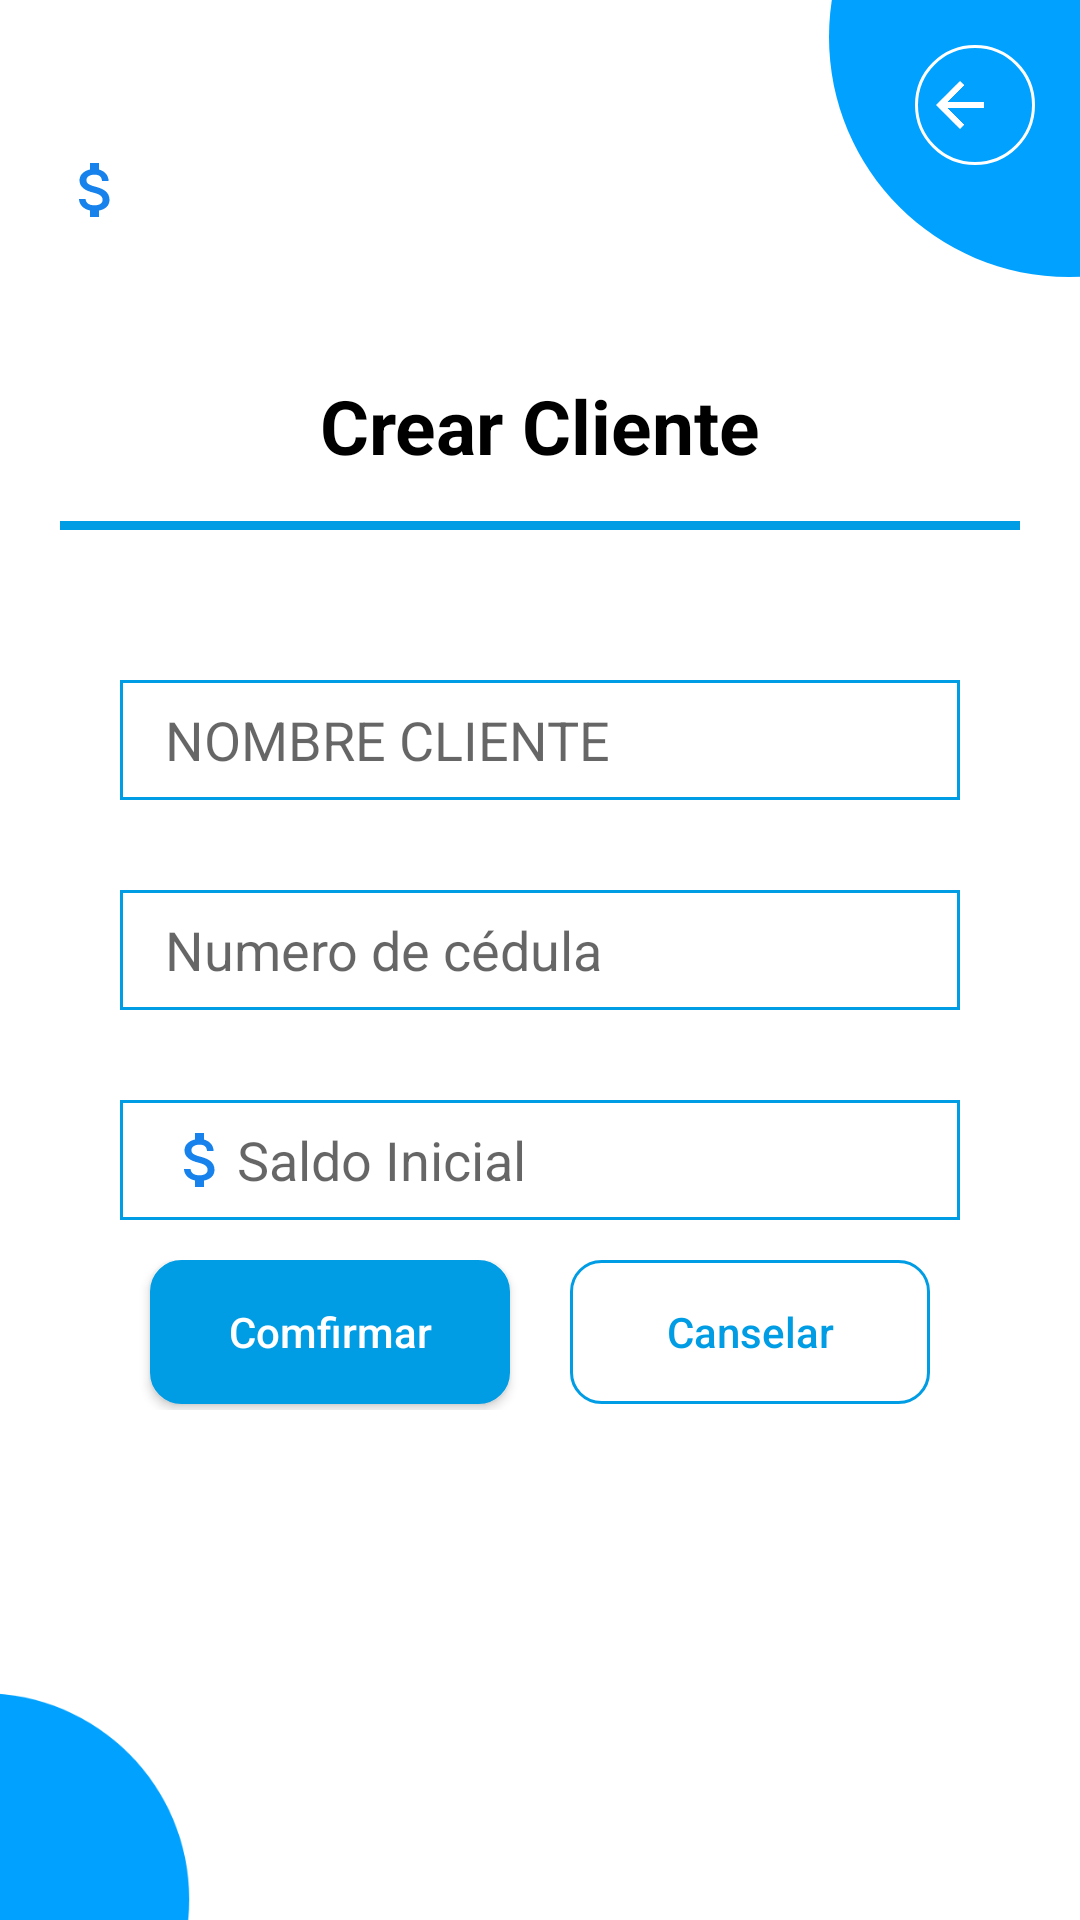

Locate icon controls on the screen. Image size 1080*1920, boxes as {"x1": x1, "y1": y1, "x2": x2, "y2": y2}.
back: {"x1": 915, "y1": 45, "x2": 1035, "y2": 165}
